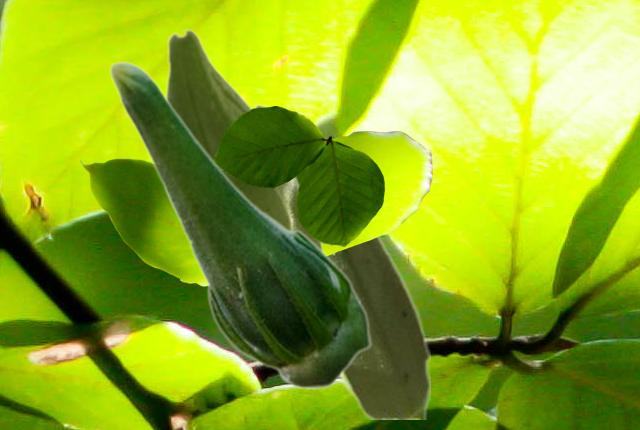okra: (108, 60, 371, 389), (253, 102, 429, 418), (165, 28, 321, 246)
